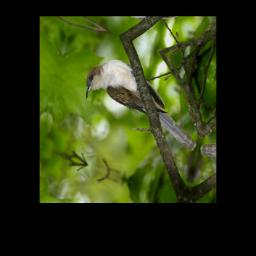Cuckoo: (79, 48, 209, 152)
